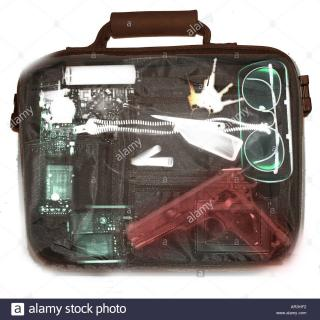gun: (128, 166, 292, 262)
